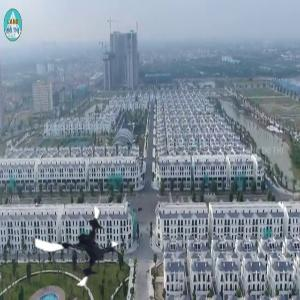drone: (33, 199, 125, 291)
